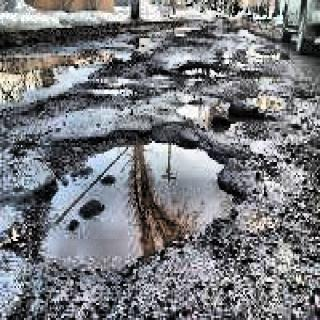pothole: (18, 130, 249, 282)
